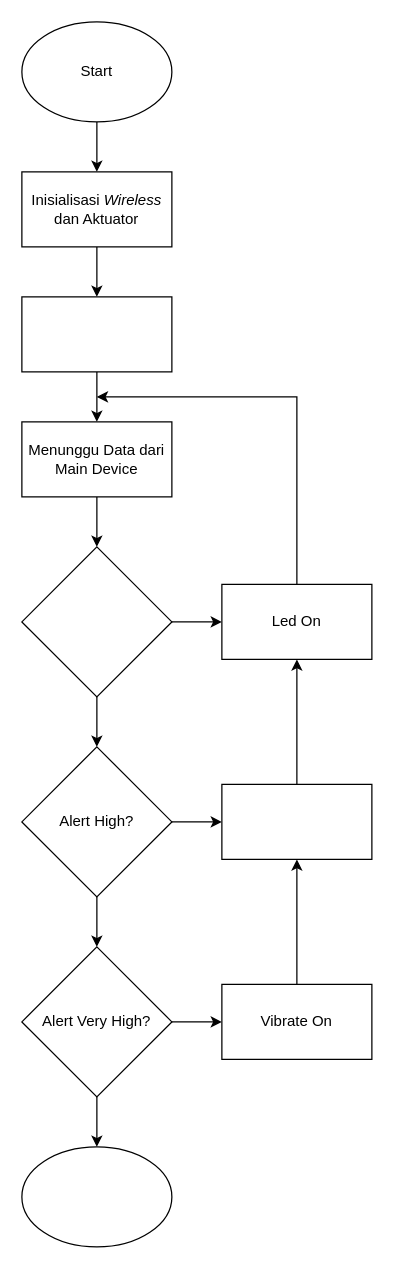
This 394x1269 diagram has some shape labels left out. The shapes that lost their labels are listed below. From the top down, each one's centre as x and y in pixels, then its label:
At point 96,334: "Device Standby Mode".
At point 96,621: "Alert Low?".
At point 296,821: "Buzzer On".
At point 96,1196: "End".
